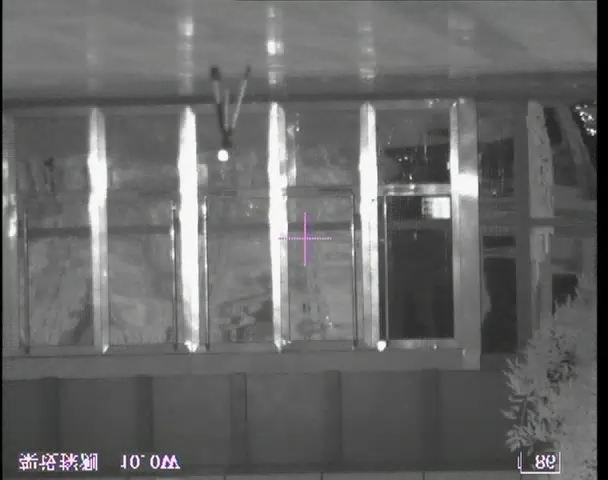my: (216, 148, 229, 163)
